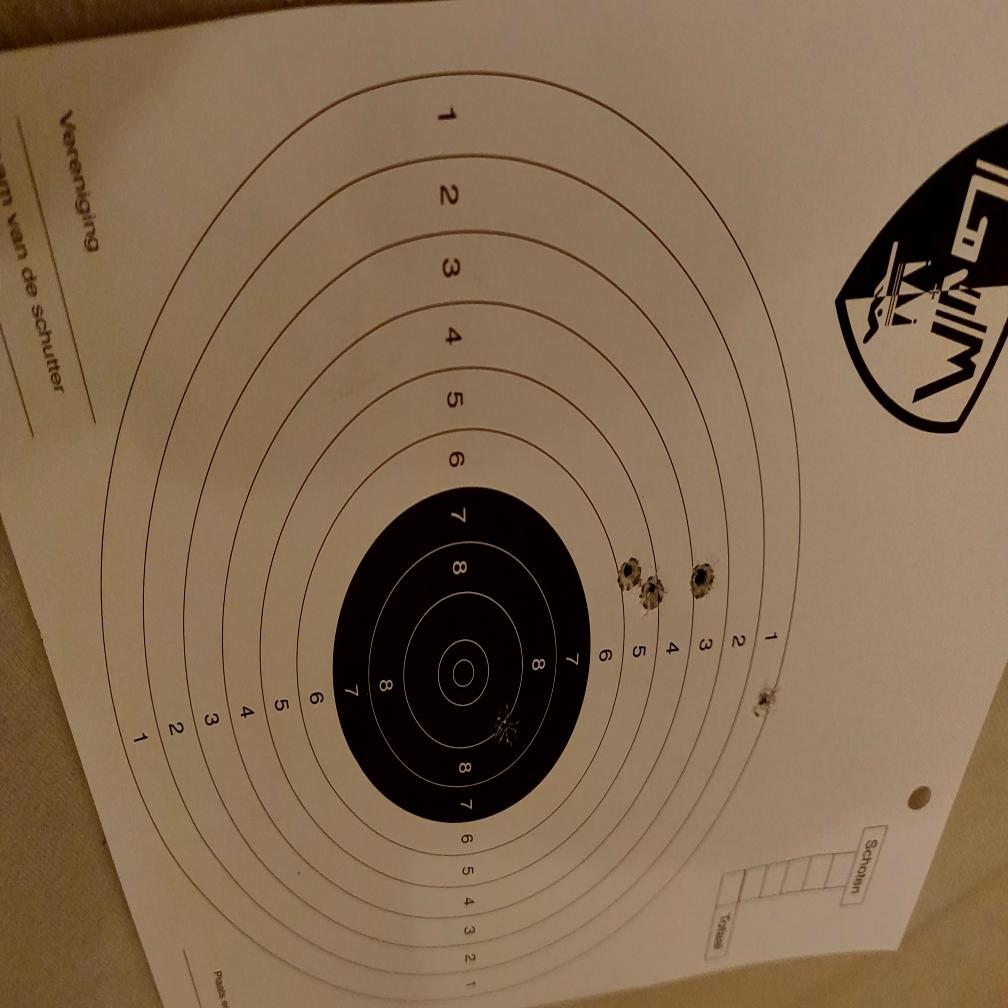1: (749, 684, 775, 721)
3: (687, 560, 717, 601)
5: (641, 571, 664, 618)
6: (616, 554, 641, 598)
9: (495, 706, 519, 746)
Target: (100, 68, 804, 1008)
black_contour: (332, 487, 590, 826)
